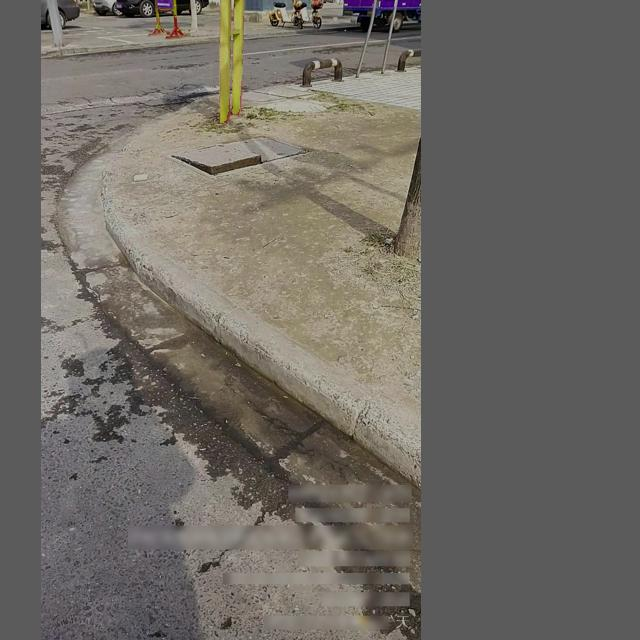uncovered: (169, 134, 311, 176)
